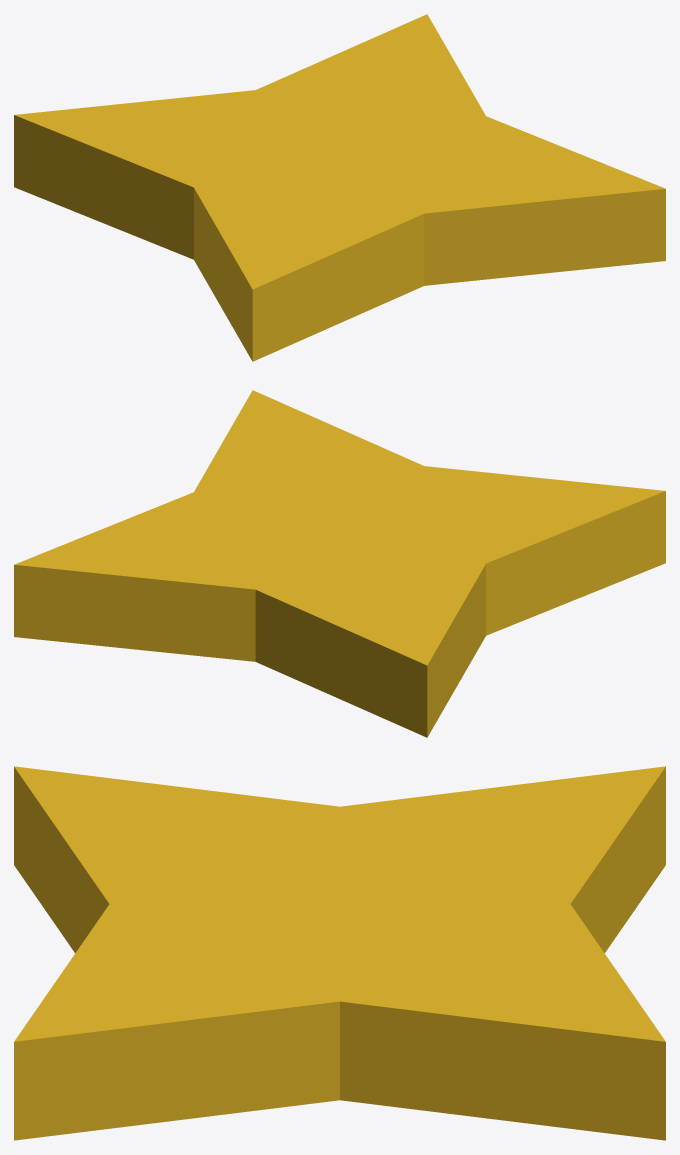
Rendered from star.fbx.
The picture shows the model from 3 angles, top to bottom: view 1: azimuth 30°, elevation 25°; view 2: azimuth 150°, elevation 25°; view 3: azimuth 270°, elevation 25°; orthographic projection. The views are drawn at different scales.
Parts seen in each view (by area): view 1: Star; view 2: Star; view 3: Star.
Boxes of the visible parts, <box> form: Star: <box>14,14,665,361</box>; Star: <box>14,390,665,737</box>; Star: <box>14,766,665,1140</box>.
Bounding box in the file's own units: 141 × 23.63 × 141.
